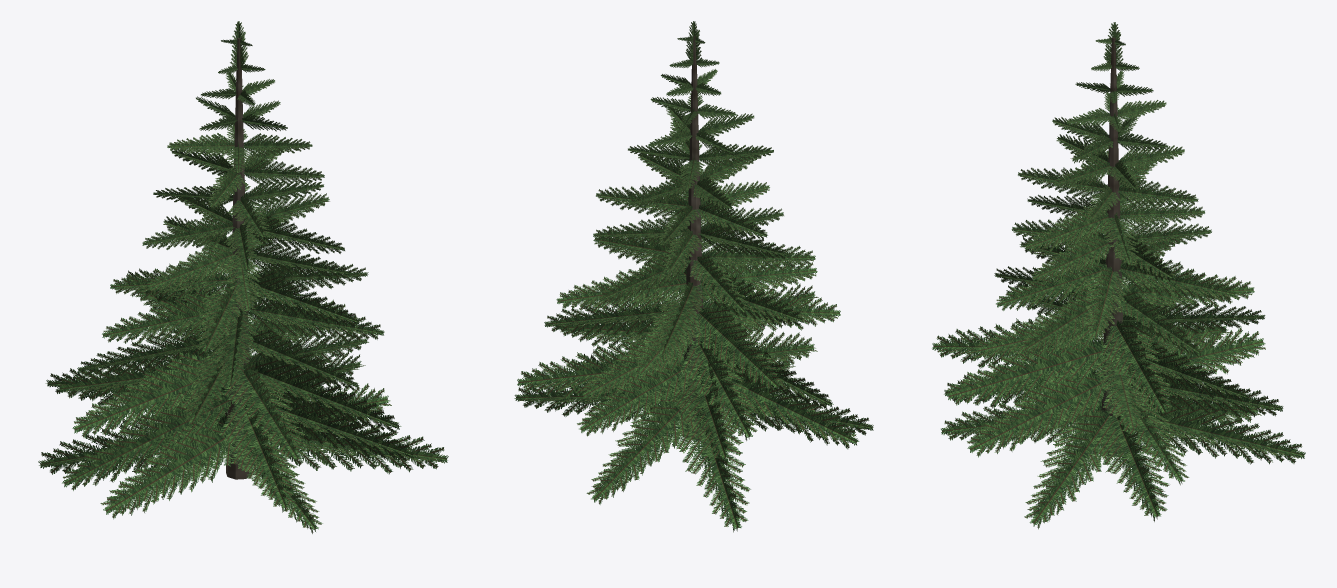
File: fir_a.glb
3 views of the same model, side by side, from view 1: azimuth 30°, elevation 25°; view 2: azimuth 150°, elevation 25°; view 3: azimuth 270°, elevation 25° (orthographic). The views are drawn at different scales.
Parts seen in each view (by area): view 1: needles, trunk; view 2: needles, trunk; view 3: needles, trunk.
Part boxes in pixels (x1,y1,x2,y2): needles: (38,21,448,533); trunk: (226,37,251,479); needles: (514,21,873,532); trunk: (683,35,703,439); needles: (932,22,1305,529); trunk: (1101,37,1123,456).
Bounding box in the file's own units: 0.9028 × 1.18 × 0.8691.
2 materials, 2 textured.
